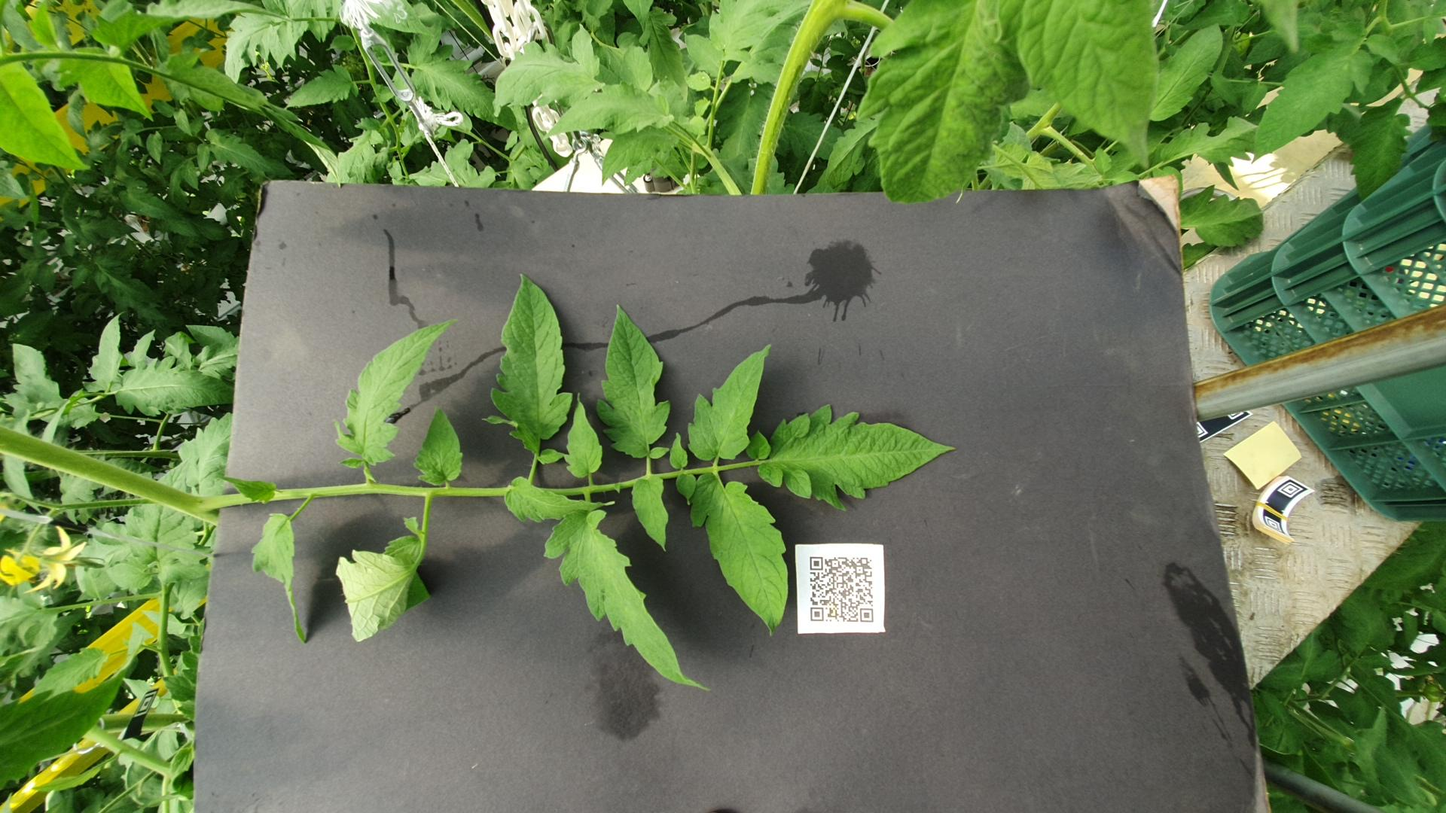Healthy: (219, 305, 540, 398), (537, 420, 730, 533), (1156, 703, 1435, 770), (612, 185, 876, 254), (620, 270, 963, 322), (323, 387, 607, 444), (37, 0, 256, 72), (301, 188, 528, 243), (628, 335, 909, 378), (1238, 277, 1405, 341), (1142, 0, 1338, 52), (625, 386, 835, 434), (1207, 236, 1367, 292), (1230, 645, 1407, 689), (1196, 303, 1298, 379), (303, 140, 536, 173), (706, 63, 812, 132), (1005, 663, 1118, 711), (515, 283, 600, 346), (1297, 126, 1425, 166), (1115, 337, 1223, 381), (201, 16, 295, 62), (587, 232, 725, 261), (595, 316, 750, 340), (1113, 463, 1237, 493), (727, 6, 836, 37), (1253, 160, 1332, 202), (464, 354, 596, 376), (754, 50, 892, 70), (1143, 116, 1215, 154), (1308, 384, 1389, 405), (551, 122, 601, 156), (395, 59, 454, 85), (822, 104, 869, 134)
